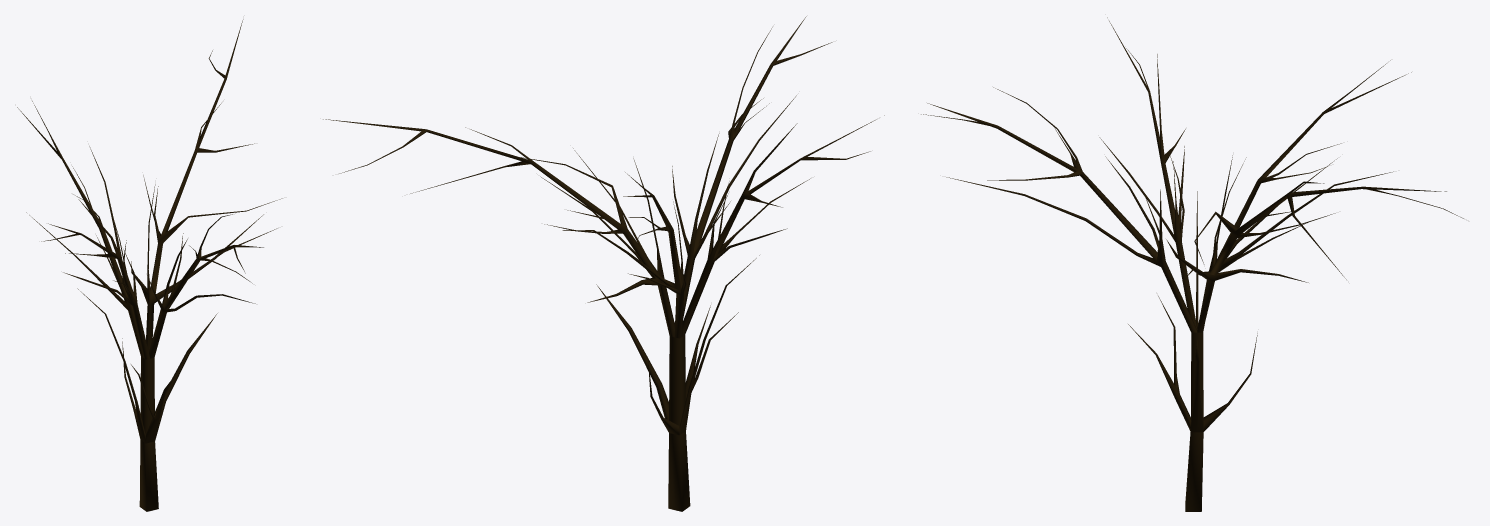
The model's file is bushTwoDraco.glb.
3 renders of one model, left to right at view 1: azimuth 30°, elevation 25°; view 2: azimuth 150°, elevation 25°; view 3: azimuth 270°, elevation 25°, orthographic. The views are drawn at different scales.
Parts seen in each view (by area): view 1: branch.007, trunk, branch, branch.006, branch.005, branch.001, branch.004, branch.003; view 2: branch.007, branch, trunk, branch.005, branch.006, branch.003, branch.004; view 3: branch, branch.007, branch.005, branch.006, trunk, branch.001, branch.003.
Boxes of the visible parts, bbox=[...] form: branch.007: bbox=[131, 19, 282, 352]; trunk: bbox=[139, 356, 158, 511]; branch: bbox=[147, 214, 263, 358]; branch.006: bbox=[17, 101, 143, 357]; branch.005: bbox=[41, 199, 149, 359]; branch.001: bbox=[131, 364, 176, 443]; branch.004: bbox=[77, 288, 145, 442]; branch.003: bbox=[155, 313, 217, 439]; branch.007: bbox=[323, 119, 674, 337]; branch: bbox=[672, 16, 832, 323]; trunk: bbox=[668, 334, 690, 511]; branch.005: bbox=[682, 115, 884, 335]; branch.006: bbox=[562, 172, 686, 338]; branch.003: bbox=[596, 284, 668, 420]; branch.004: bbox=[679, 255, 759, 434]; branch: bbox=[921, 87, 1197, 332]; branch.007: bbox=[1166, 155, 1463, 332]; branch.005: bbox=[1099, 17, 1197, 329]; branch.006: bbox=[1197, 60, 1411, 328]; trunk: bbox=[1185, 332, 1203, 511]; branch.001: bbox=[1128, 296, 1190, 431]; branch.003: bbox=[1190, 339, 1203, 432].
Bounding box in the file's own units: 1.08 × 1.09 × 1.28.
